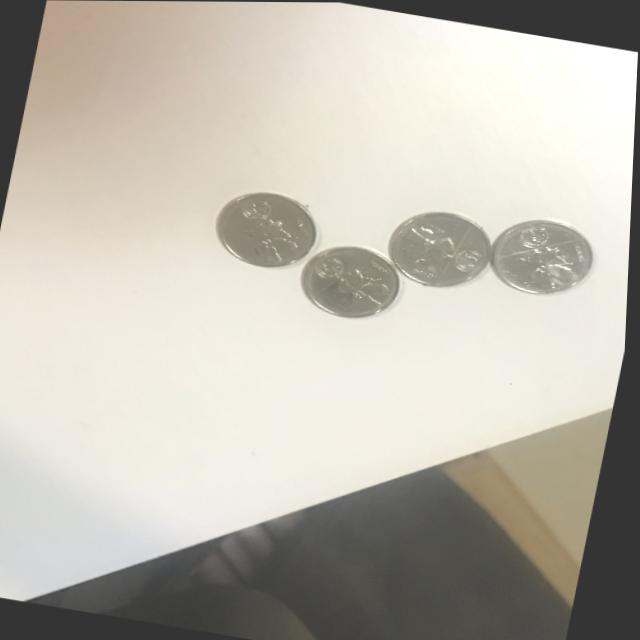25Cent_New_Back: (502, 217, 590, 292), (227, 194, 316, 258), (312, 247, 402, 306), (394, 225, 480, 285)
